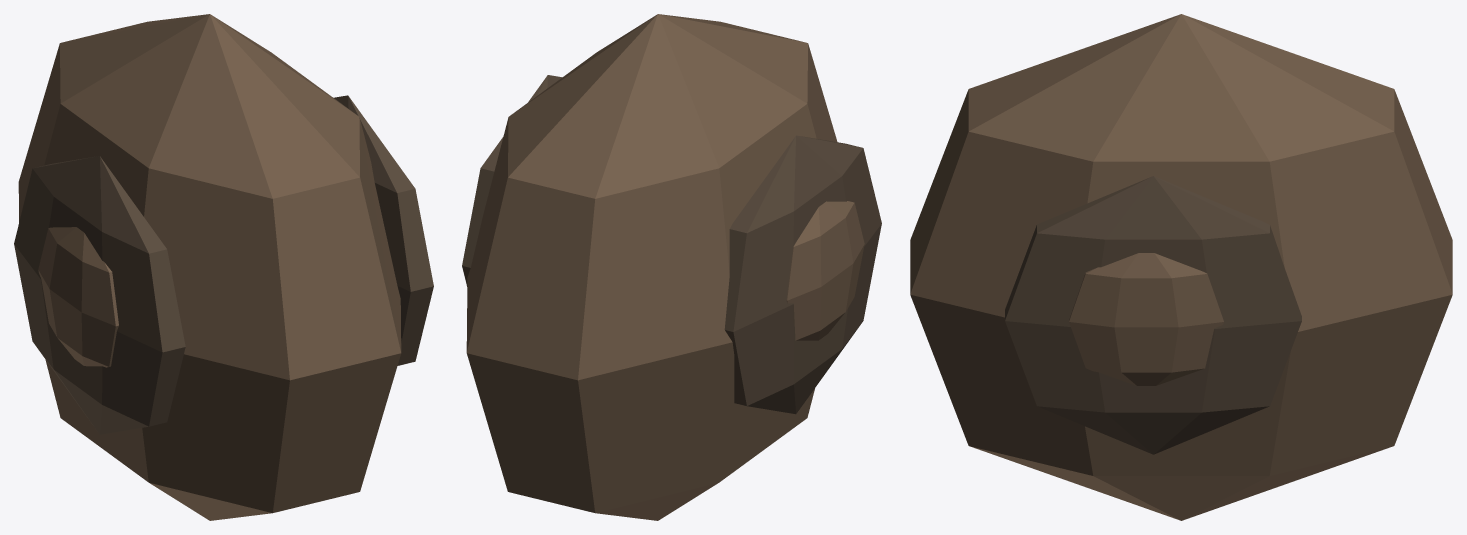
The model's file is animal_lavasnail_bones.obj.
3 views of the same model, side by side, from view 1: azimuth 30°, elevation 25°; view 2: azimuth 150°, elevation 25°; view 3: azimuth 270°, elevation 25° (orthographic).
Size of the model in its own units: 0.4812 by 0.72 by 0.6984.
